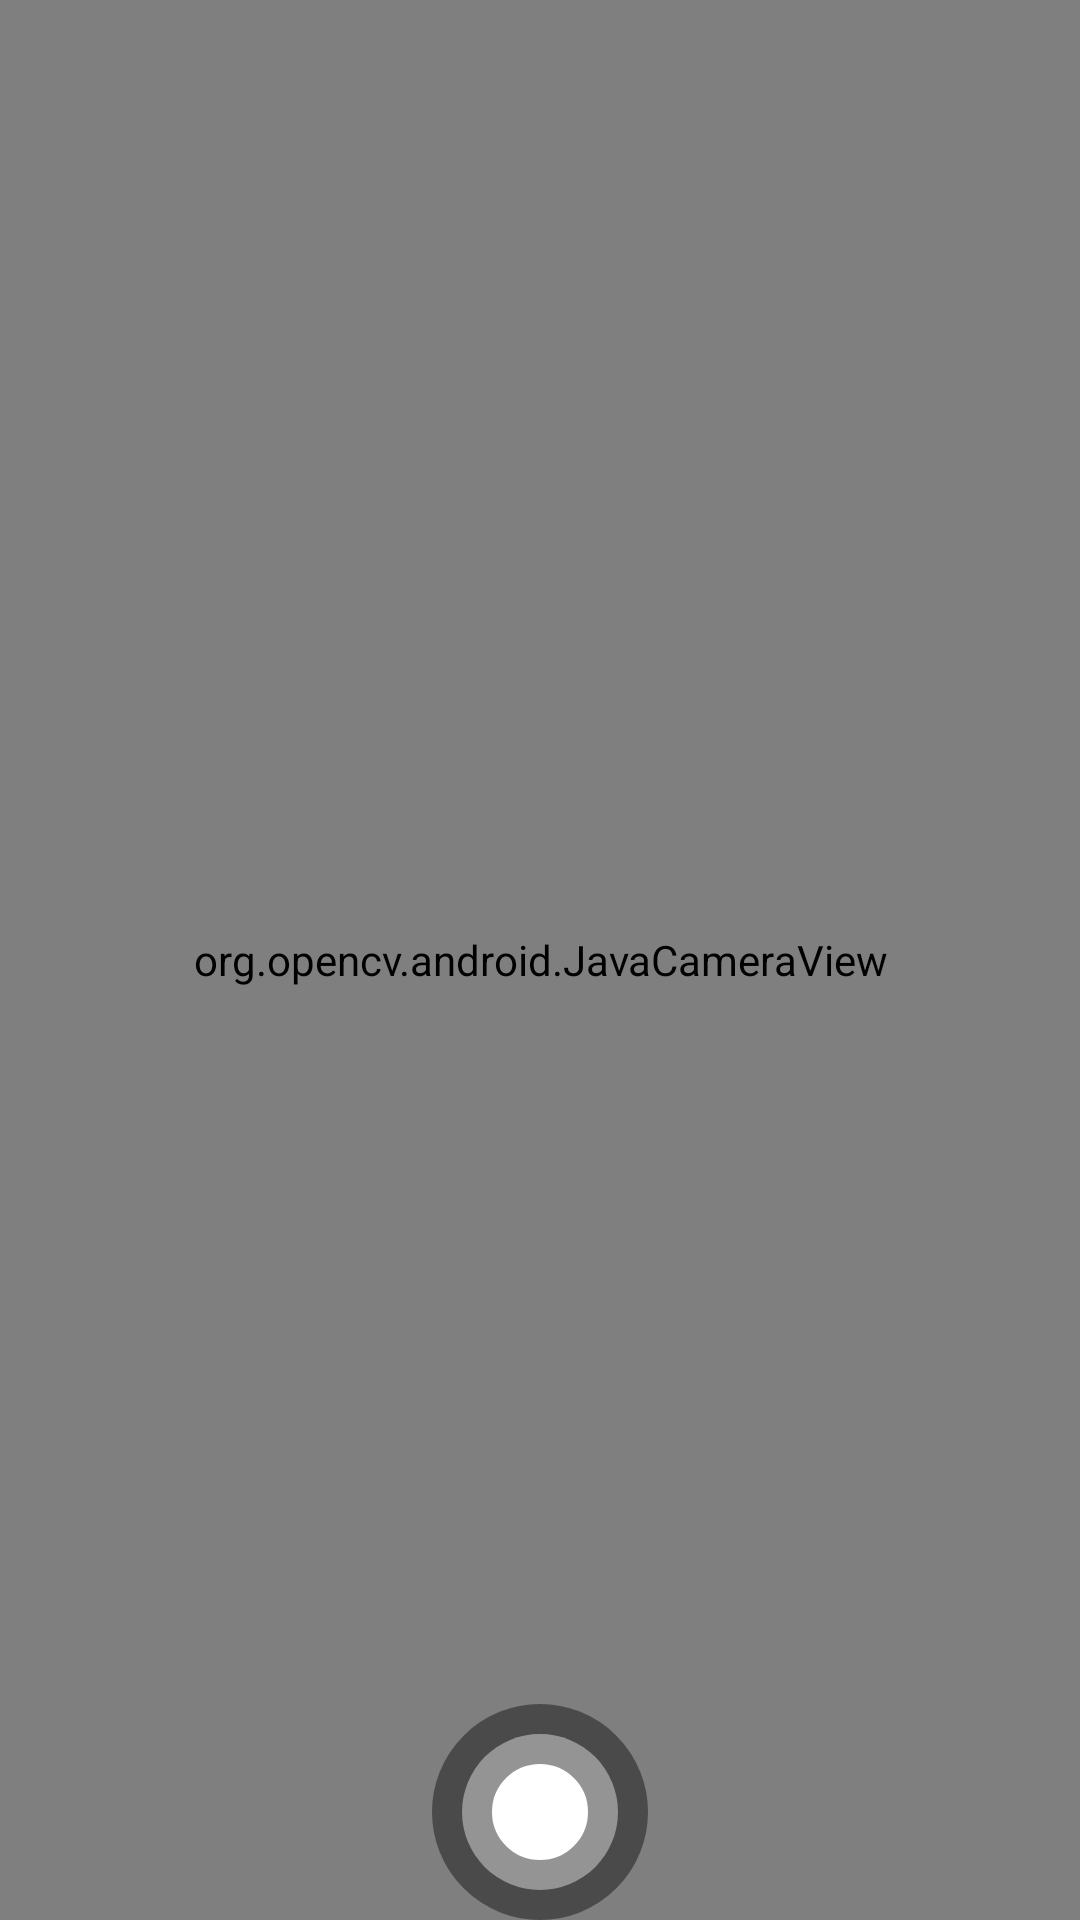

Named icons in this screenshot (1080px×1920px) and their bounding boxes, (x1, y1, x2, y2):
camerabutton: (432, 1704, 648, 1920)
